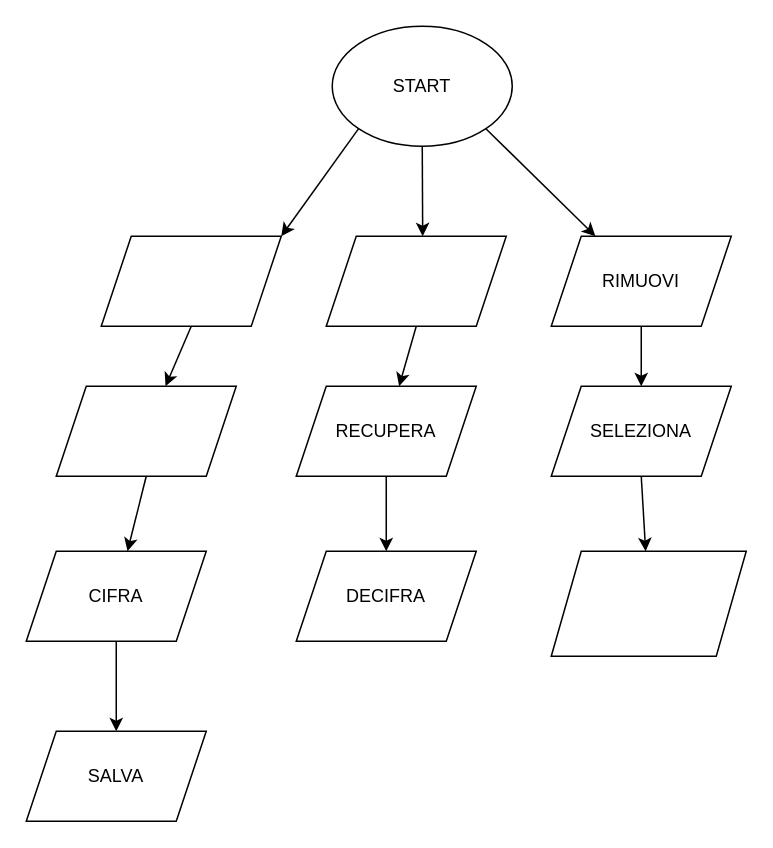
Image size: 773x848. Some labels were removed from this diagram. Each missing label, with the centre of its shape:
AGGIUNGI: point 190,280
INSERISCI CREDENZIALI: point 145,430
RIMUOVI DEFINITIVAMENTE: point 648,603
VISUALIZZA: point 415,280
